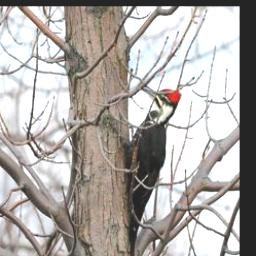Woodpecker: (121, 82, 183, 256)
